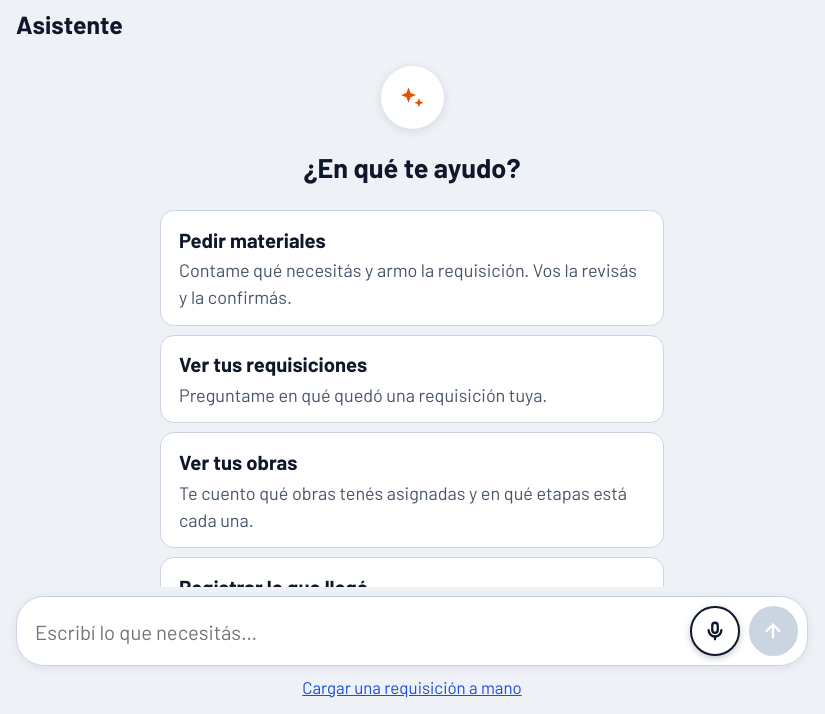
it: AsistenteChatPage: entrada por voz (#139) › lo dictado se agrega a lo que ya estaba escrito
(page scrolled)
Type "Hola," into the text box named "Escribí tu mensaje" at [358, 632], box [35,608,681,656]
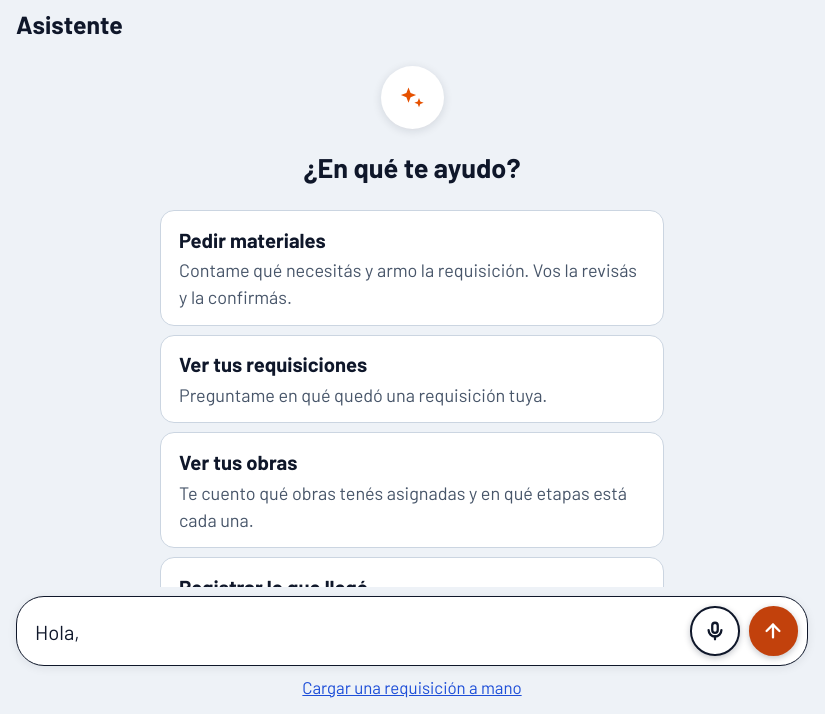
Click the button named "Dictar por voz" at [715, 631], box [690,607,740,656]
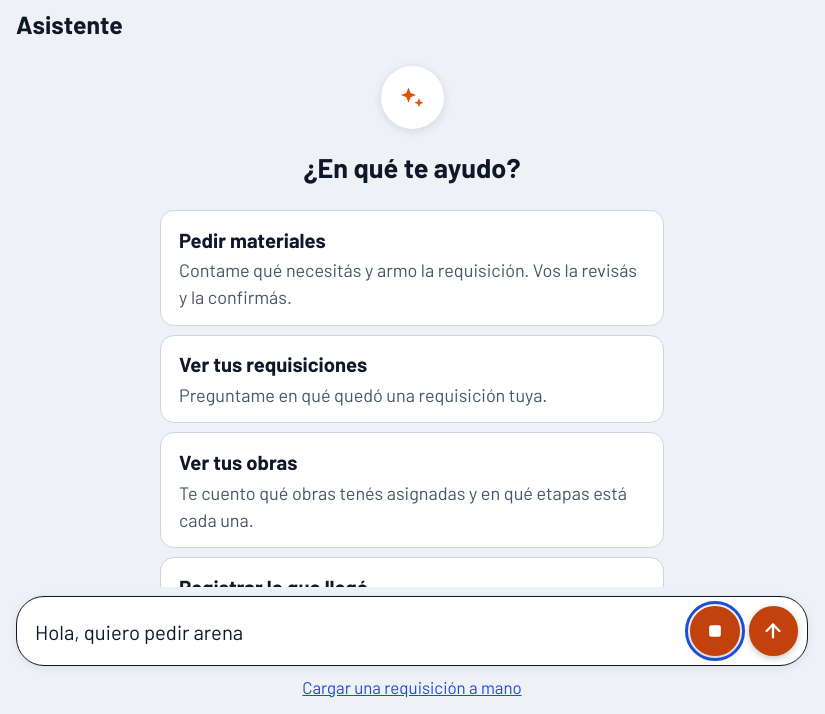
Check: the text box named "Escribí tu mensaje" holds "Hola, quiero pedir arena", box [35,608,681,656]
